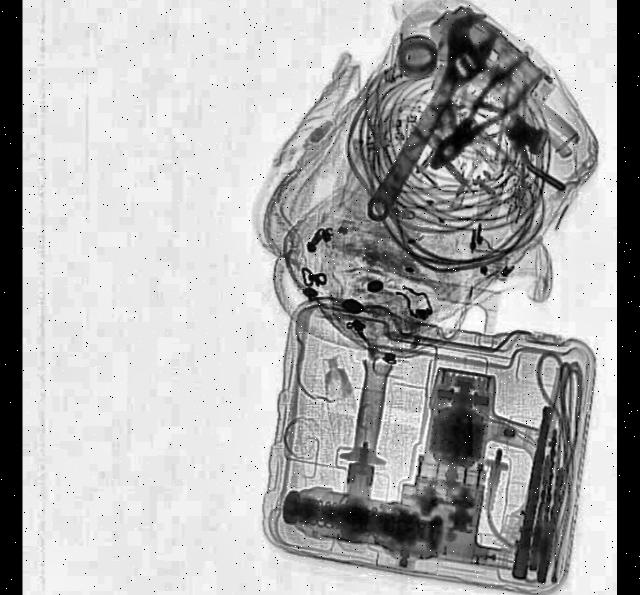Pliers: (416, 41, 547, 184)
Wrench: (350, 0, 508, 235)
